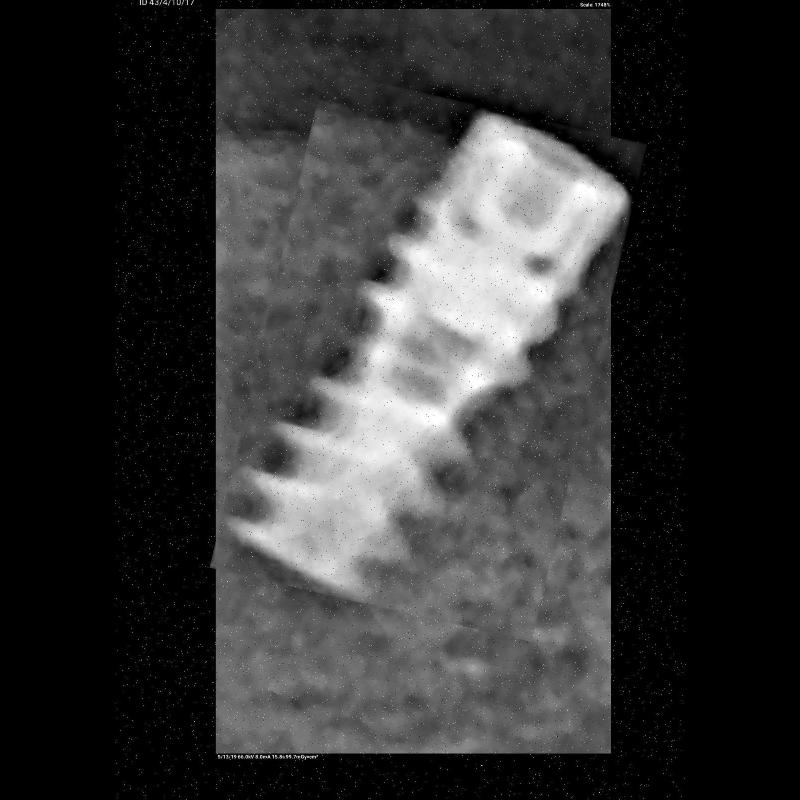NORIS: (236, 86, 620, 628)
